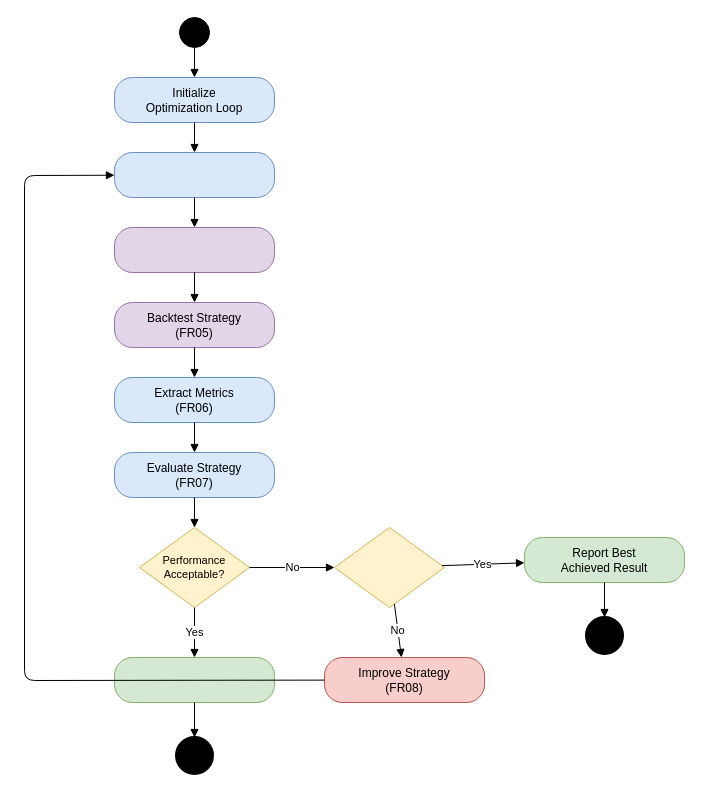
This 702x792 diagram has some shape labels left out. The shapes that lost their labels are listed below. From the top down, each one's centre as x and y in pixels, then its label:
At pixel 194 175: "Generate Strategy (FR03)".
At pixel 194 249: "Compile Strategy (FR04)".
At pixel 389 567: "Max Iterations Reached?".
At pixel 194 679: "Output Final Optimized Strategy".
